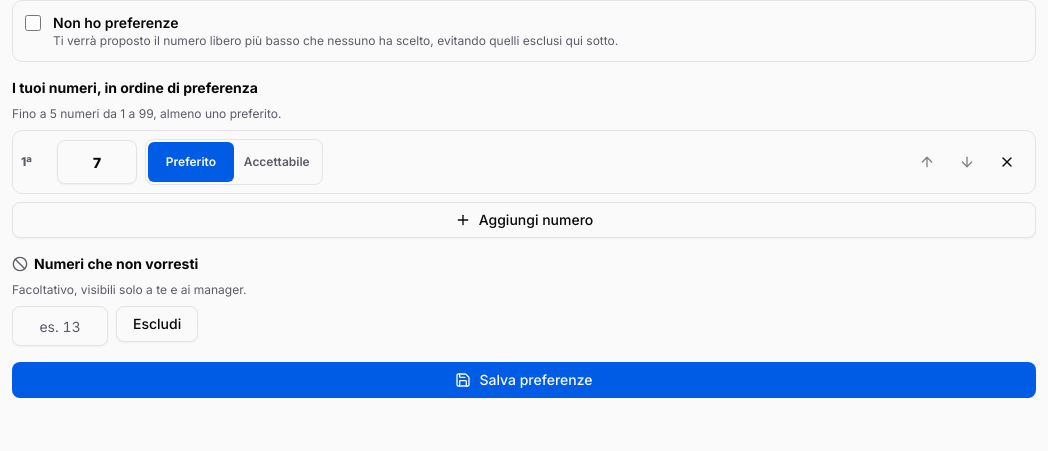
JerseyPreferencesForm › blocks saving without a preferred number
Click the radio button labelled "Accettabile".
click(277, 162)  # box 234,142 -> 320,182
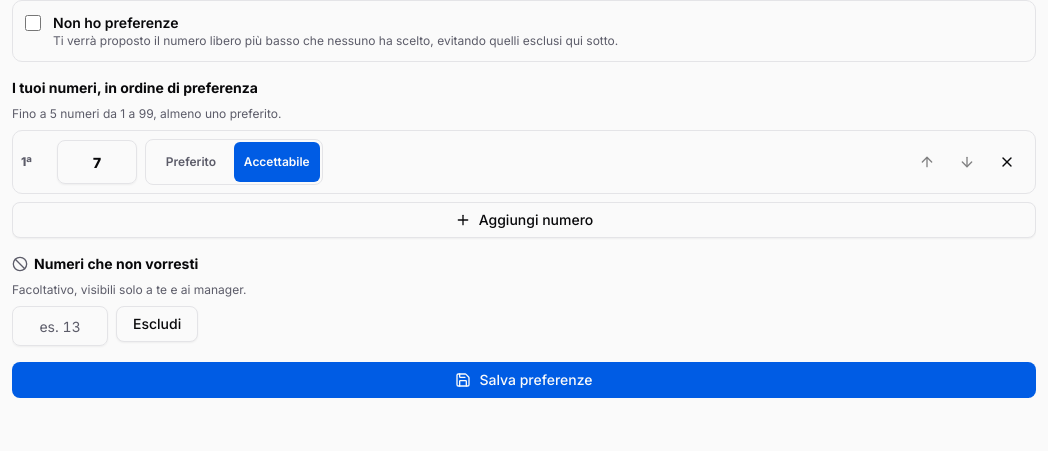
Click the button "Salva preferenze".
click(524, 380)  # box 12,362 -> 1036,398
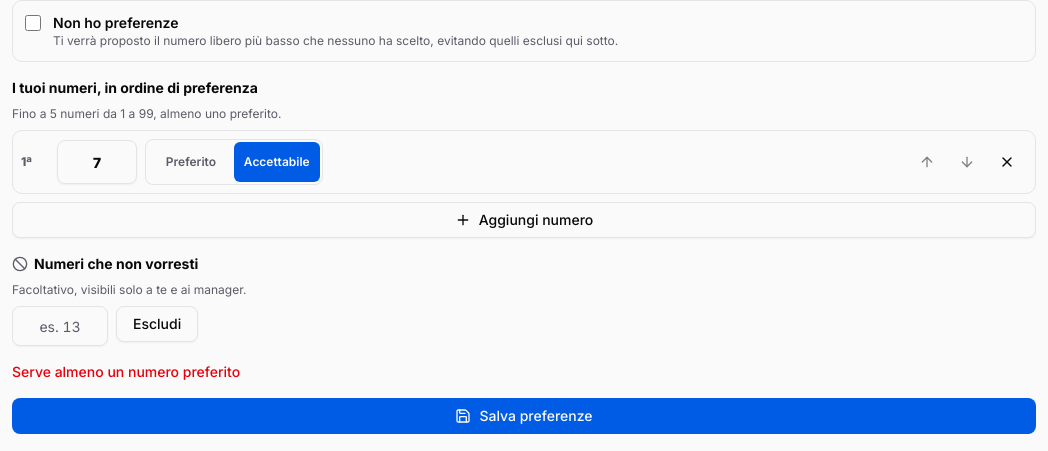
Expected: the message reads "Serve almeno un numero preferito", 12,363 -> 240,380
